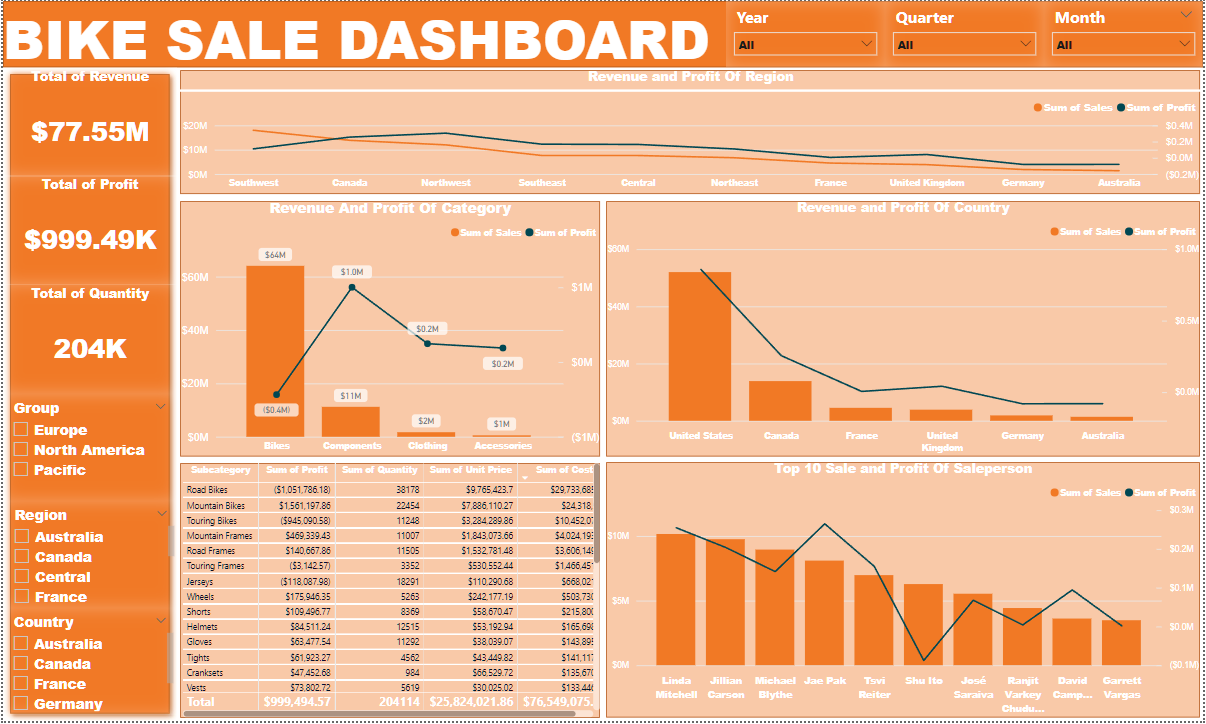

What the dashboard file says about the page in this screenshot:
{"tool":"powerbi","page":{"name":"Page 1","canvas":[1500,900],"ordinal":0},"visuals":[{"type":"shape","box":[0,0,1500,82.9],"z":0},{"type":"slicer","fields":{"Values":["Sales.OrderDate.Variation.Date Hierarchy.Quarter"]},"box":[1102.9,0,198.6,82.9],"z":1000},{"type":"slicer","fields":{"Values":["Sales.OrderDate.Variation.Date Hierarchy.Year"]},"box":[904.3,0,198.6,82.9],"z":2000},{"type":"slicer","fields":{"Values":["Sales.OrderDate.Variation.Date Hierarchy.Month"]},"box":[1301.4,0,198.6,82.9],"z":3000},{"type":"shape","box":[0,82.9,217.1,817.1],"z":4000},{"type":"card","title":"Total of Revenue","fields":{"Values":["Sales.Sales"]},"box":[0,82.9,217.1,137.1],"z":5000},{"type":"card","title":"Total of Profit","fields":{"Values":["Sales.Profit"]},"box":[0,217.1,217.1,137.1],"z":6000},{"type":"card","title":"Total of Quantity","fields":{"Values":["Sales.Quantity"]},"box":[0,354.3,217.1,137.1],"z":7000},{"type":"slicer","fields":{"Values":["Region.Region"]},"box":[1.2,625,217.5,133.8],"z":8000},{"type":"slicer","fields":{"Values":["Region.Country"]},"box":[0,758.8,217.5,133.8],"z":9000},{"type":"slicer","fields":{"Values":["Region.Group"]},"box":[0,491.4,217.1,134.3],"z":10000},{"type":"shape","box":[217.1,245.7,532.9,327.1],"z":11000},{"type":"shape","box":[750,245.7,750,327.1],"z":12000},{"type":"shape","box":[217.5,573.8,532.5,326.2],"z":13000},{"type":"shape","box":[750,572.9,750,327.1],"z":14000},{"type":"shape","box":[217.1,82.9,1282.9,162.9],"z":15000},{"type":"lineClusteredColumnComboChart","title":"Revenue and Profit Of Country","fields":{"Y":["Sales.Sales"],"Y2":["Sales.Profit"],"Category":["Region.Country"]},"box":[750,245.7,750,327.1],"z":16000},{"type":"lineStackedColumnComboChart","title":"Revenue And Profit Of Category","fields":{"Category":["Product.Category"],"Y":["Sales.Sales"],"Y2":["Sales.Profit"]},"box":[217.1,245.7,532.9,327.1],"z":17000},{"type":"lineClusteredColumnComboChart","title":"Top 10 Sale and Profit Of Saleperson","fields":{"Category":["Salesperson.Salesperson"],"Y":["Sales.Sales"],"Y2":["Sales.Profit"]},"box":[750,572.5,750,327.5],"z":18000},{"type":"lineChart","title":"Revenue and Profit Of Region","fields":{"Category":["Region.Region"],"Y":["Sales.Sales"],"Y2":["Sales.Profit"]},"box":[218.6,82.9,1281.4,162.9],"z":19000},{"type":"tableEx","fields":{"Values":["Product.Subcategory","Sales.Profit","Sales.Quantity","Sales.Unit Price","Sales.Cost"]},"box":[218.8,572.5,532.5,327.5],"z":20000}]}

Visuals, with their boxes in screenshot pixels (x1, y1, x2, y2), scaled from the page's 1500x900 canvas onto the 1206x724 screenshot:
shape: (left=0, top=0, right=1205, bottom=67)
slicer - Sales.OrderDate.Variation.Date Hierarchy.Quarter: (left=887, top=0, right=1046, bottom=67)
slicer - Sales.OrderDate.Variation.Date Hierarchy.Year: (left=727, top=0, right=887, bottom=67)
slicer - Sales.OrderDate.Variation.Date Hierarchy.Month: (left=1046, top=0, right=1205, bottom=67)
shape: (left=0, top=67, right=175, bottom=723)
"Total of Revenue" card: (left=0, top=67, right=175, bottom=177)
"Total of Profit" card: (left=0, top=175, right=175, bottom=285)
"Total of Quantity" card: (left=0, top=285, right=175, bottom=395)
slicer - Region.Region: (left=1, top=503, right=176, bottom=610)
slicer - Region.Country: (left=0, top=610, right=175, bottom=718)
slicer - Region.Group: (left=0, top=395, right=175, bottom=503)
shape: (left=175, top=198, right=603, bottom=461)
shape: (left=603, top=198, right=1205, bottom=461)
shape: (left=175, top=462, right=603, bottom=723)
shape: (left=603, top=461, right=1205, bottom=723)
shape: (left=175, top=67, right=1205, bottom=198)
"Revenue and Profit Of Country" lineClusteredColumnComboChart: (left=603, top=198, right=1205, bottom=461)
"Revenue And Profit Of Category" lineStackedColumnComboChart: (left=175, top=198, right=603, bottom=461)
"Top 10 Sale and Profit Of Saleperson" lineClusteredColumnComboChart: (left=603, top=461, right=1205, bottom=723)
"Revenue and Profit Of Region" lineChart: (left=176, top=67, right=1205, bottom=198)
tableEx - Product.Subcategory x Sales.Profit: (left=176, top=461, right=604, bottom=723)
